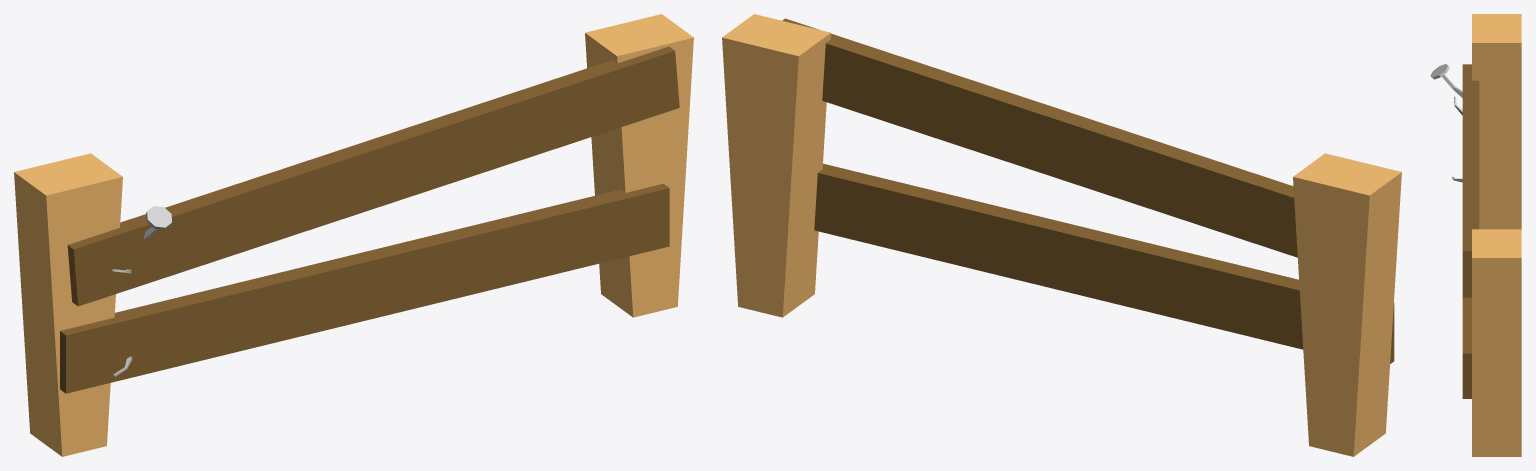
Rendered from Fence3.fbx.
The picture shows the model from 3 angles, left to right: view 1: azimuth 30°, elevation 25°; view 2: azimuth 150°, elevation 25°; view 3: azimuth 270°, elevation 25°; orthographic projection. The views are drawn at different scales.
Parts seen in each view (by area): view 1: pCube136, pCube137, pCube134, pCube135; view 2: pCube136, pCube137, pCube134, pCube135; view 3: pCube135, pCube134, pCube137, pCube136, pCylinder1, pCube138.
Boxes of the visible parts, box(x1,y1,x2,y2) form: pCube136: box(60, 183, 669, 393); pCube137: box(67, 46, 679, 306); pCube134: box(14, 153, 122, 456); pCube135: box(585, 14, 693, 317); pCube136: box(814, 163, 1394, 363); pCube137: box(782, 18, 1297, 257); pCube134: box(1293, 153, 1401, 456); pCube135: box(722, 14, 830, 317); pCube135: box(1472, 229, 1521, 456); pCube134: box(1472, 14, 1521, 229); pCube137: box(1462, 64, 1479, 297); pCube136: box(1462, 297, 1471, 398); pCylinder1: box(1430, 64, 1449, 79); pCube138: box(1441, 74, 1462, 97).
Bounding box in the file's own units: 11.62 × 4.55 × 1.84.
